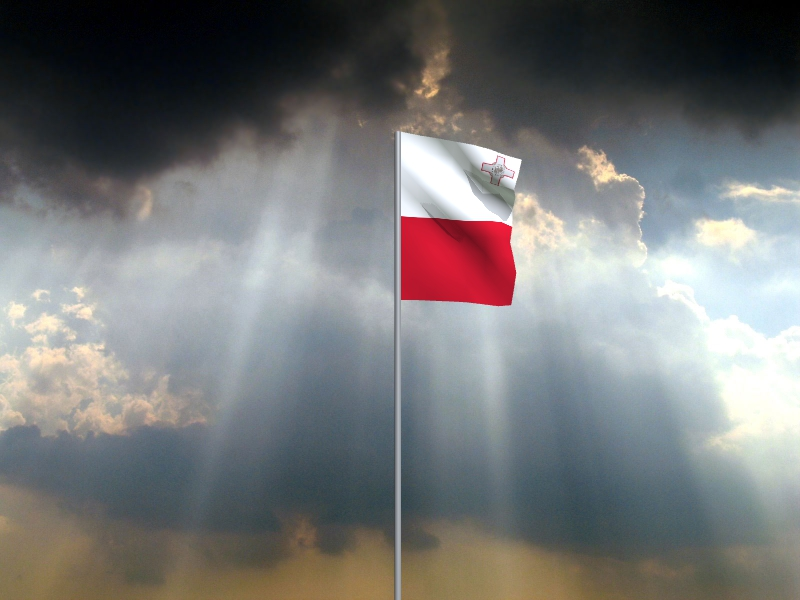mt: (401, 133, 524, 307)
